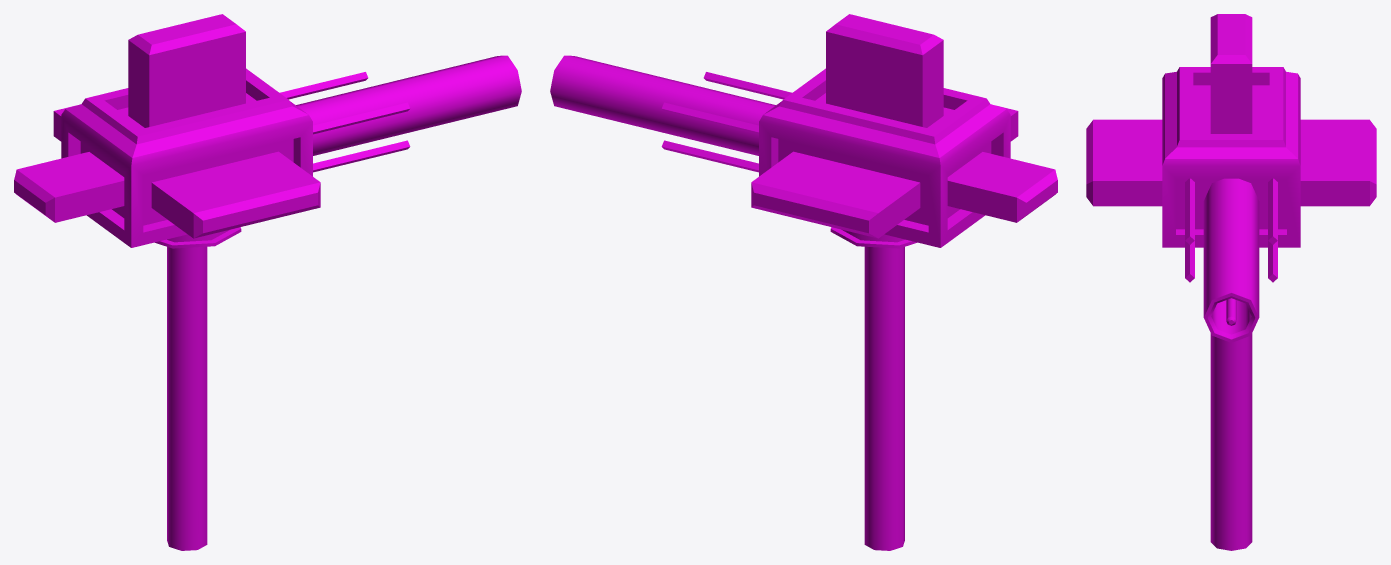
Rendered from Turret_gun.fbx.
3 renders of one model, left to right at view 1: azimuth 30°, elevation 25°; view 2: azimuth 150°, elevation 25°; view 3: azimuth 270°, elevation 25°, orthographic.
Visible parts, largest first — view 1: Turret_gun; view 2: Turret_gun; view 3: Turret_gun.
Part boxes in pixels (x1,y1,x2,y2): Turret_gun: (14, 14, 521, 550); Turret_gun: (550, 14, 1057, 550); Turret_gun: (1086, 14, 1376, 550).
Size of the model in its own units: 80.5 by 81 by 42.
